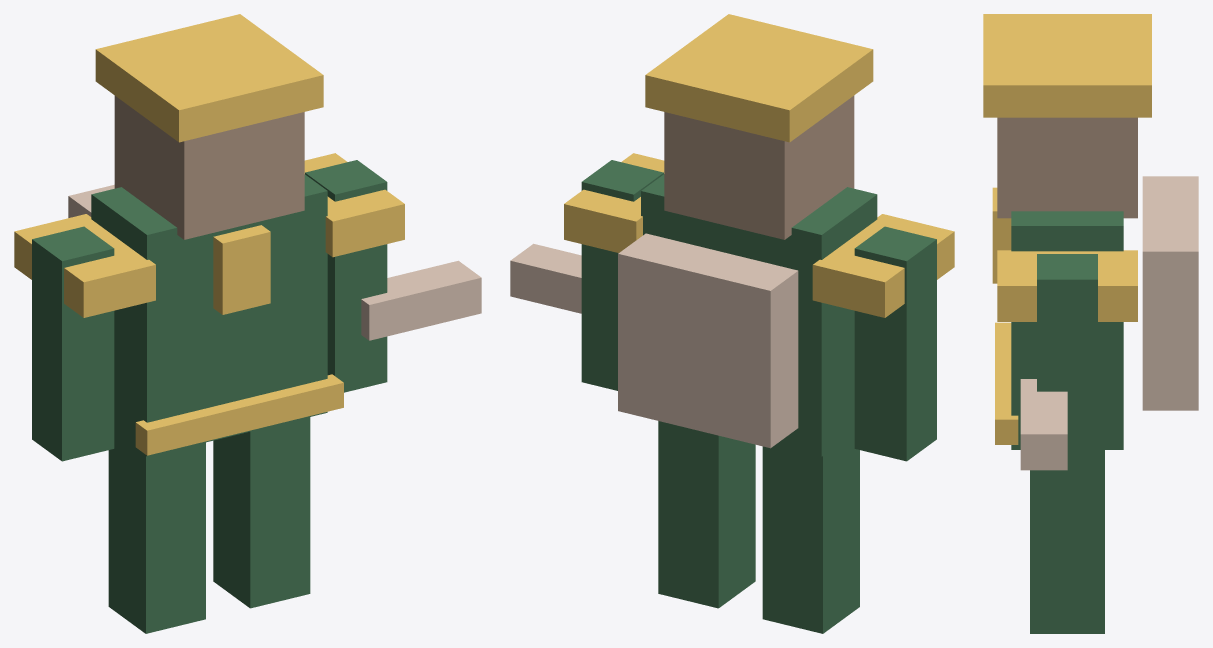
Rendered from 01_lyric_holloway_navigator_near.glb.
The picture shows the model from 3 angles, left to right: view 1: azimuth 30°, elevation 25°; view 2: azimuth 150°, elevation 25°; view 3: azimuth 270°, elevation 25°; orthographic projection.
Parts seen in each view (by area): view 1: Lyric Holloway, Navigator near; view 2: Lyric Holloway, Navigator near; view 3: Lyric Holloway, Navigator near.
Part boxes in pixels (left/top/right/bottom): Lyric Holloway, Navigator near: left=14, top=14, right=481, bottom=633; Lyric Holloway, Navigator near: left=510, top=14, right=954, bottom=633; Lyric Holloway, Navigator near: left=983, top=14, right=1198, bottom=633.
Bounding box in the file's own units: 1.12 × 1.4 × 0.502.
